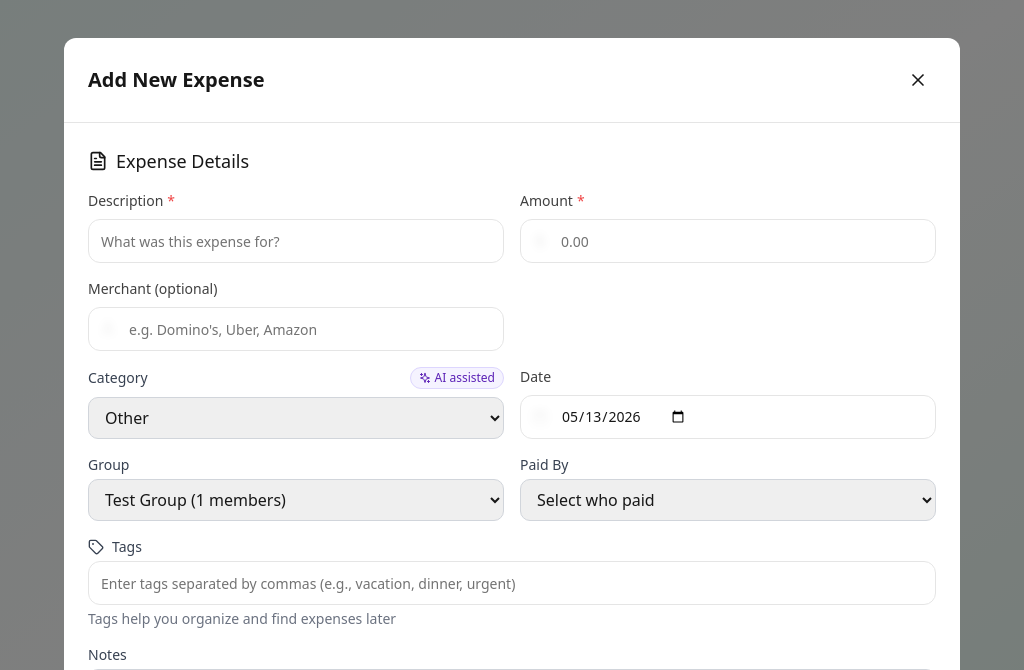
it: AdvancedExpenseForm smart categorization › shows suggested category and confidence after success
Step 1. Type "pizza party" into the field with placeholder "What was this expense for?" → (296, 241), box x1=88 y1=219 x2=504 y2=263
Wait 500 ms
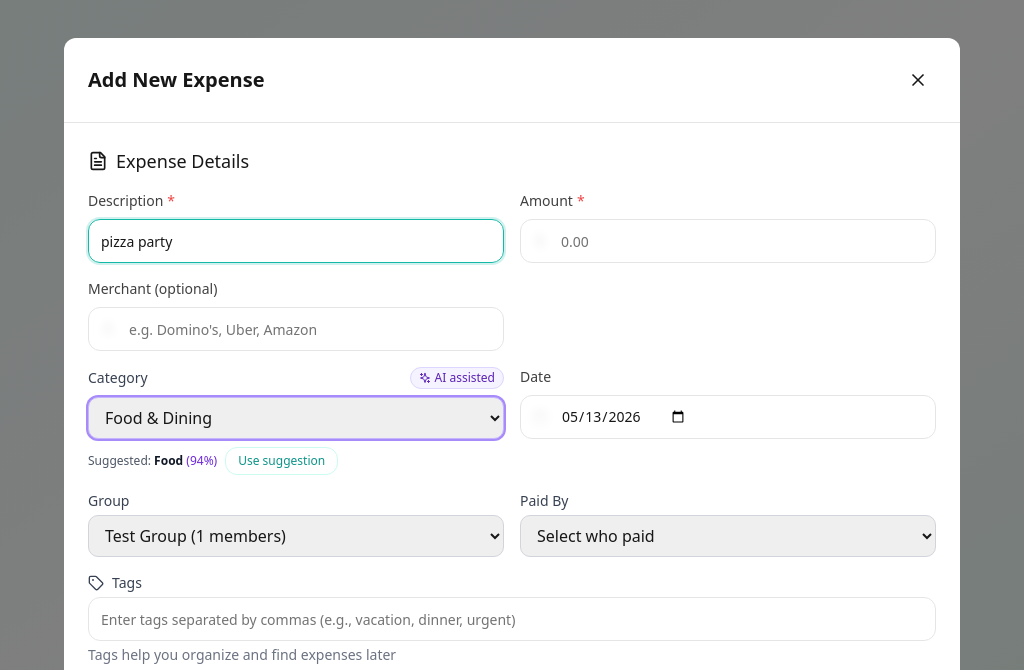
expect the text "Suggested: Food (94%)" is shown: met, box x1=88 y1=453 x2=217 y2=469
expect the text "(94%)" is shown: met, box x1=186 y1=452 x2=217 y2=469
